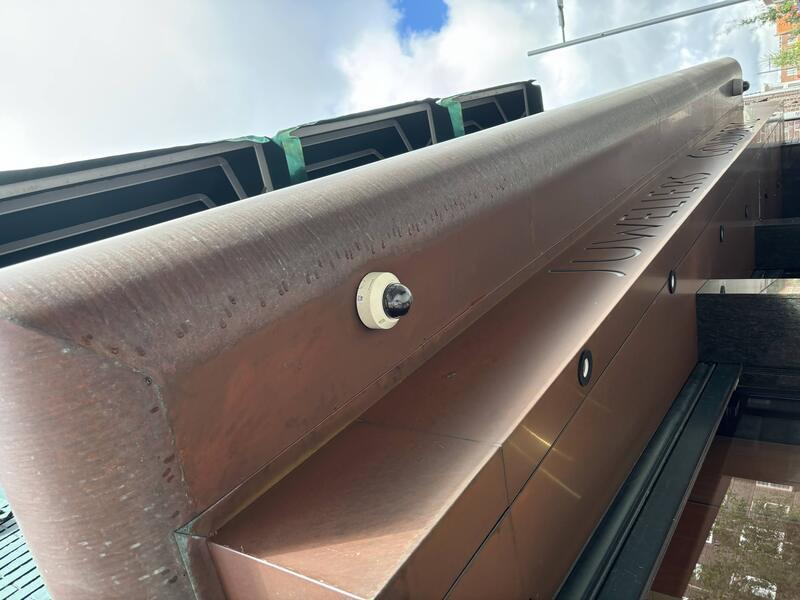dome: (265, 346, 331, 422)
